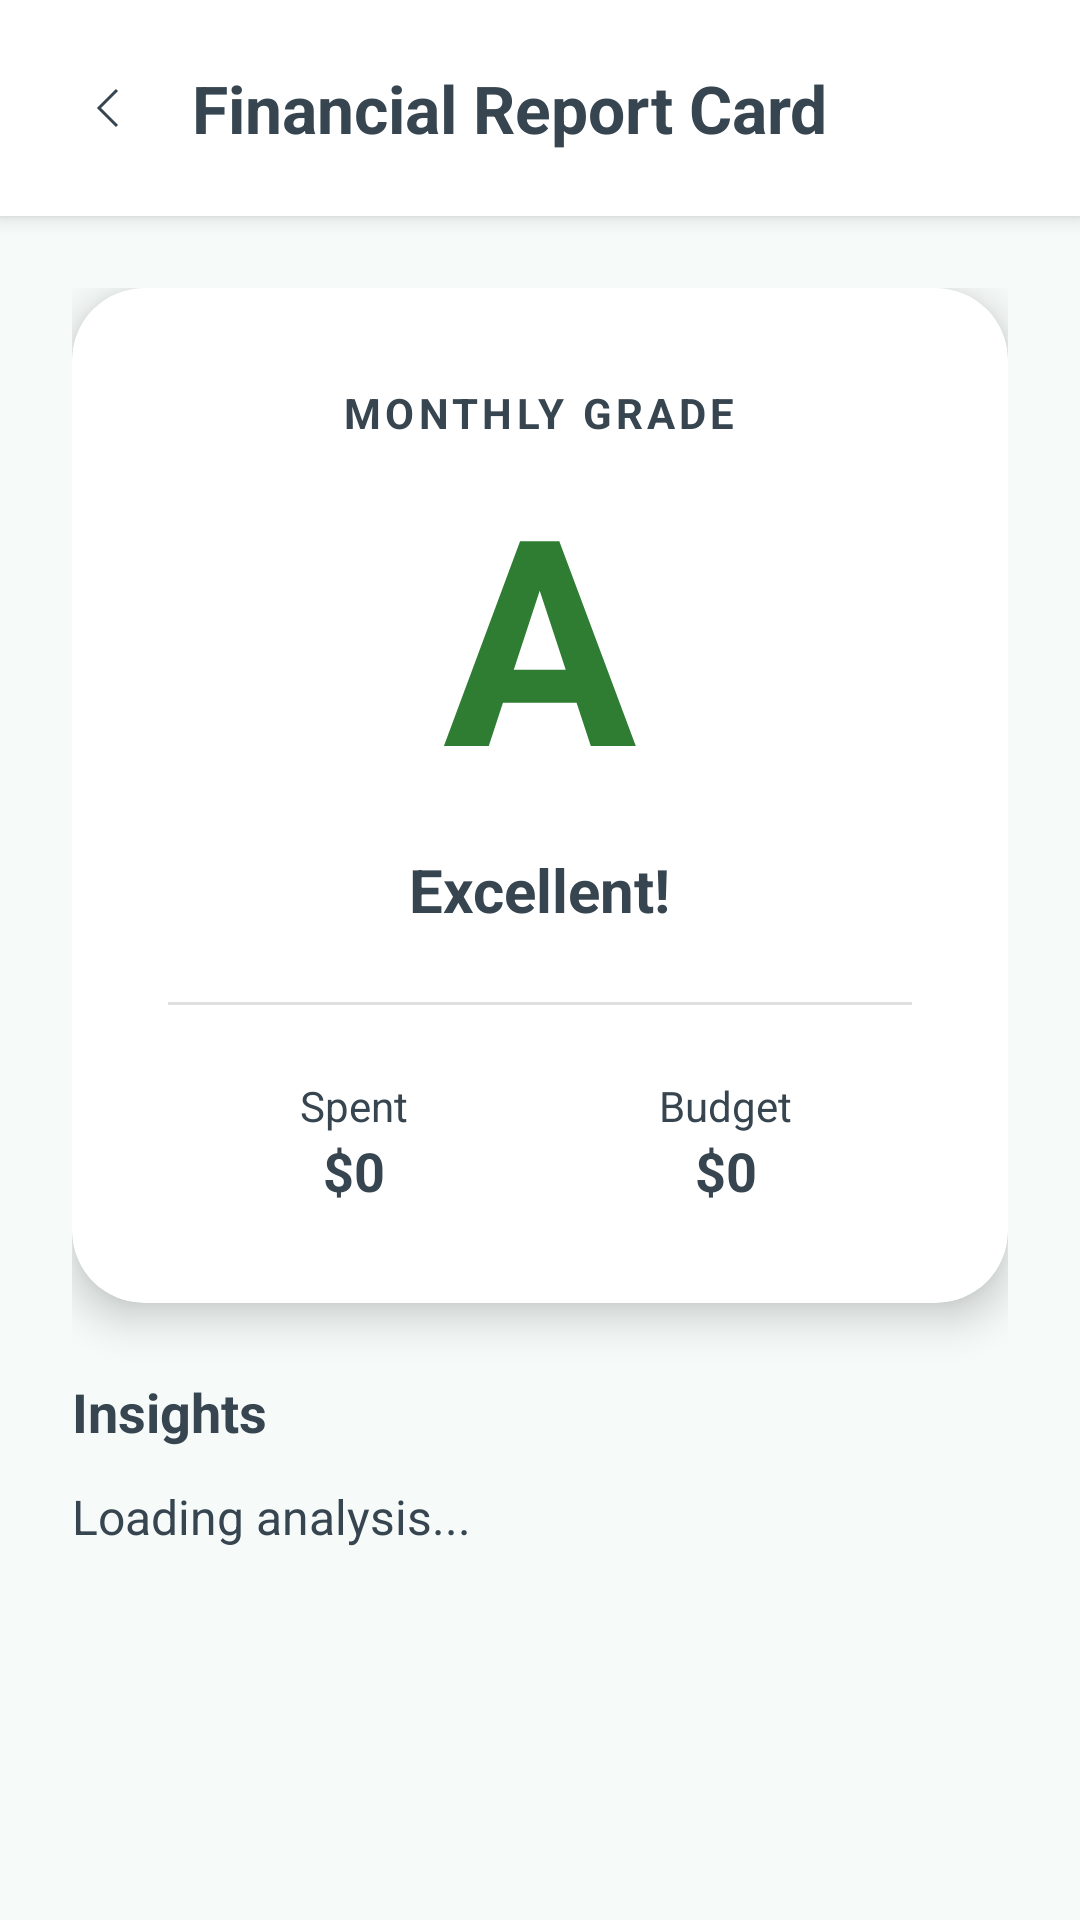

Icon bounding boxes for this 1080x1920 phone screenshot, format (x1, y1, x2, y2):
arrow back: (97, 89, 118, 127)
